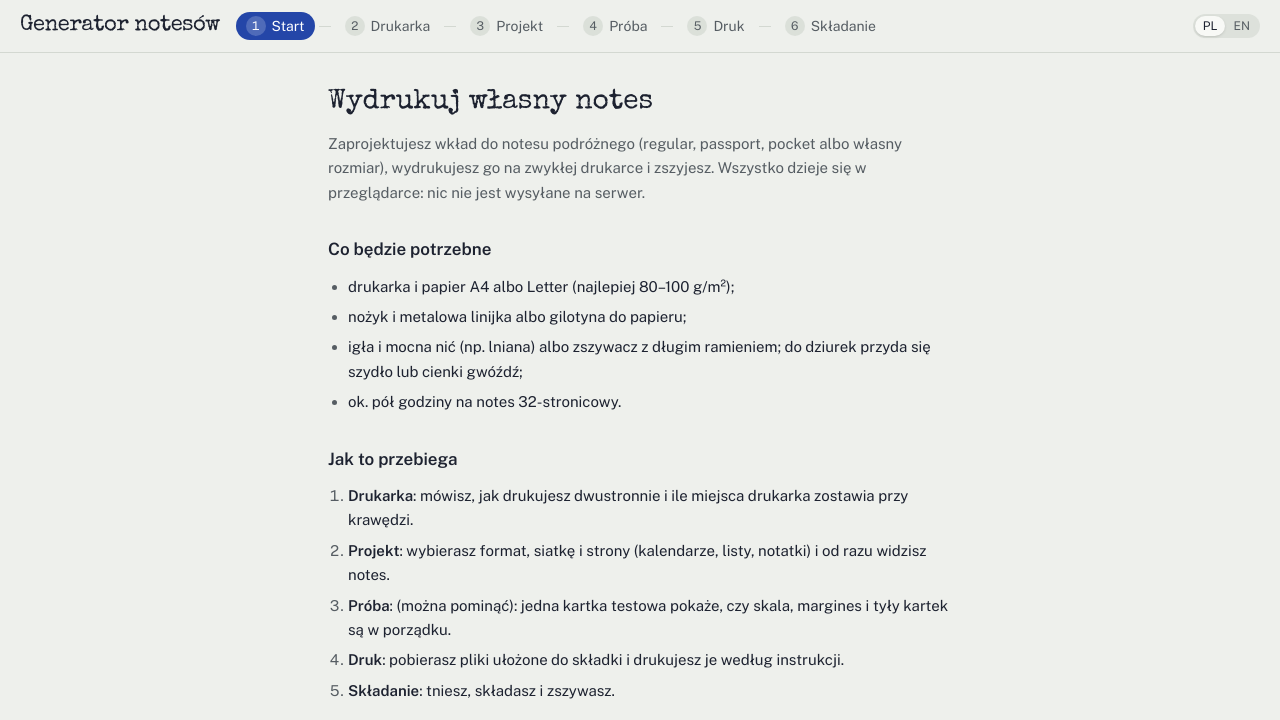
Test case: language switch › changes the interface, and the default notebook switches with it
The width and height of the screenshot is (1280, 720).
expect the heading "Wydrukuj własny notes" is shown: met, box [328,88,653,116]
Click the button "en": coordinates (1242, 26) [1225,16,1258,36]
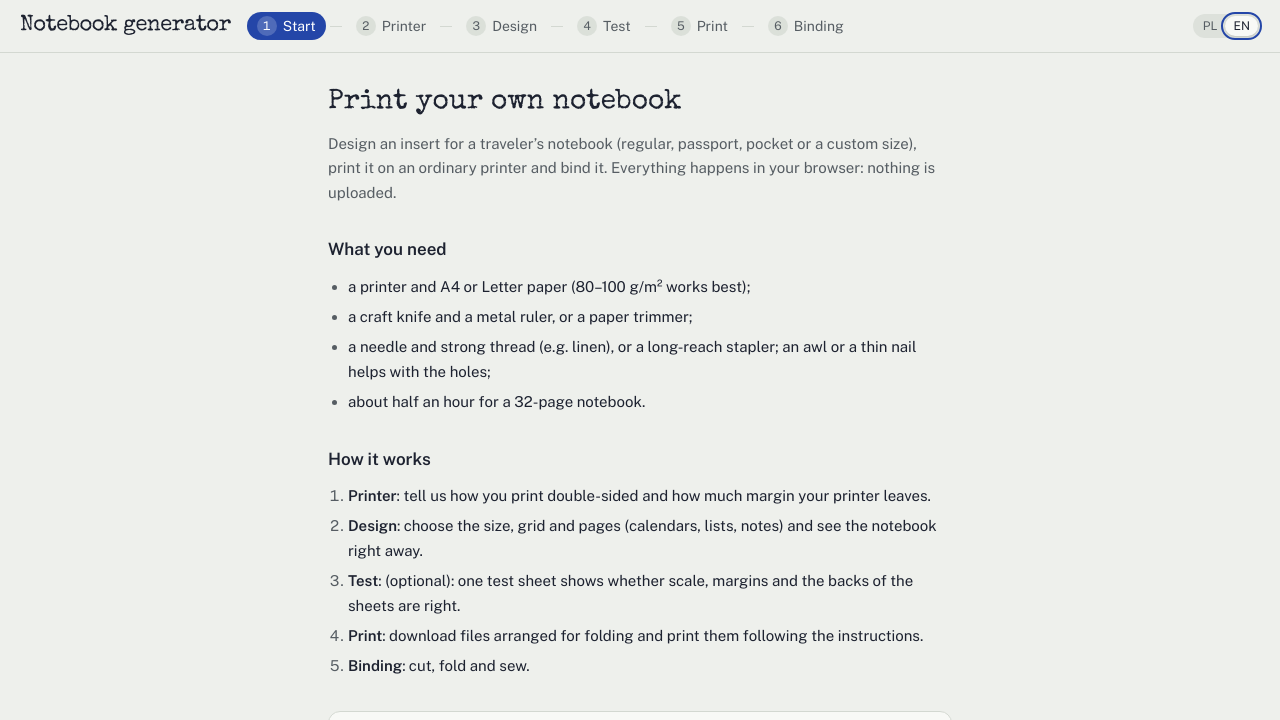
expect the heading "Print your own notebook" is shown: met, box [328,88,682,116]
expect the navigation bar named "Wizard steps" is shown: met, box [247,12,854,40]
